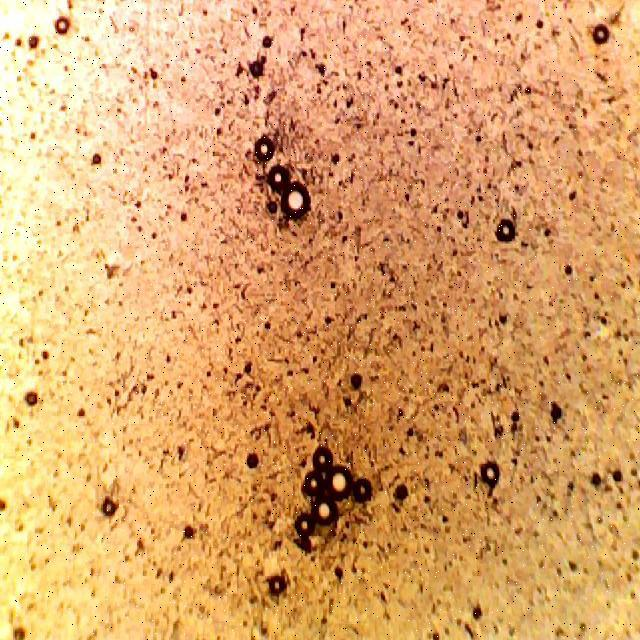microbeads: (281, 180, 313, 223)
